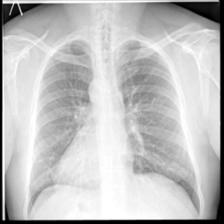tuberculosis: (27, 33, 206, 221)
